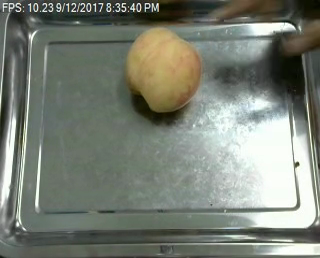Peach: (124, 25, 202, 112)
